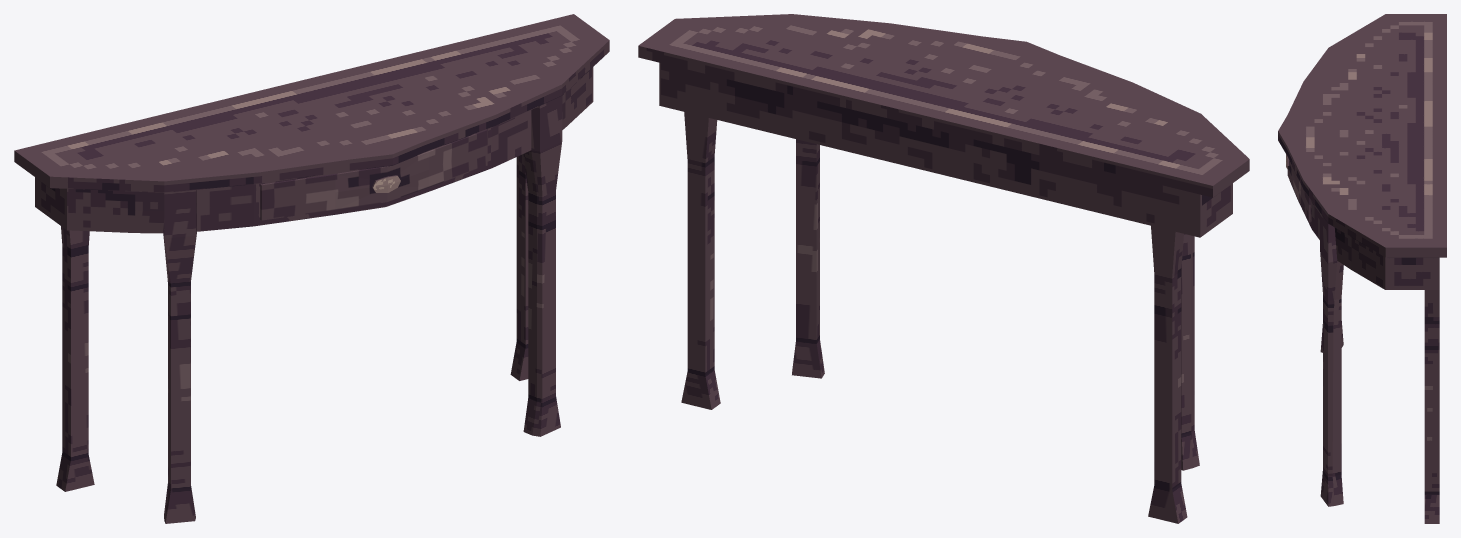
The model's file is EndTable.fbx.
3 renders of one model, left to right at view 1: azimuth 30°, elevation 25°; view 2: azimuth 150°, elevation 25°; view 3: azimuth 270°, elevation 25°, orthographic. The views are drawn at different scales.
Parts seen in each view (by area): view 1: Cube.102; view 2: Cube.102; view 3: Cube.102.
Boxes of the visible parts, x1,y1,x2,y2 form: Cube.102: [14, 14, 609, 523]; Cube.102: [638, 14, 1249, 523]; Cube.102: [1278, 14, 1446, 523].
Size of the model in its own units: 173 by 101 by 52.72.
